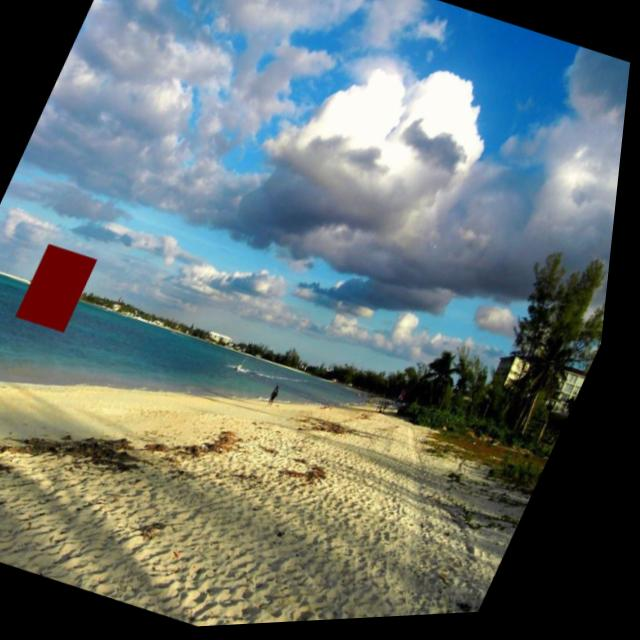RedSquare: (11, 231, 115, 349)
